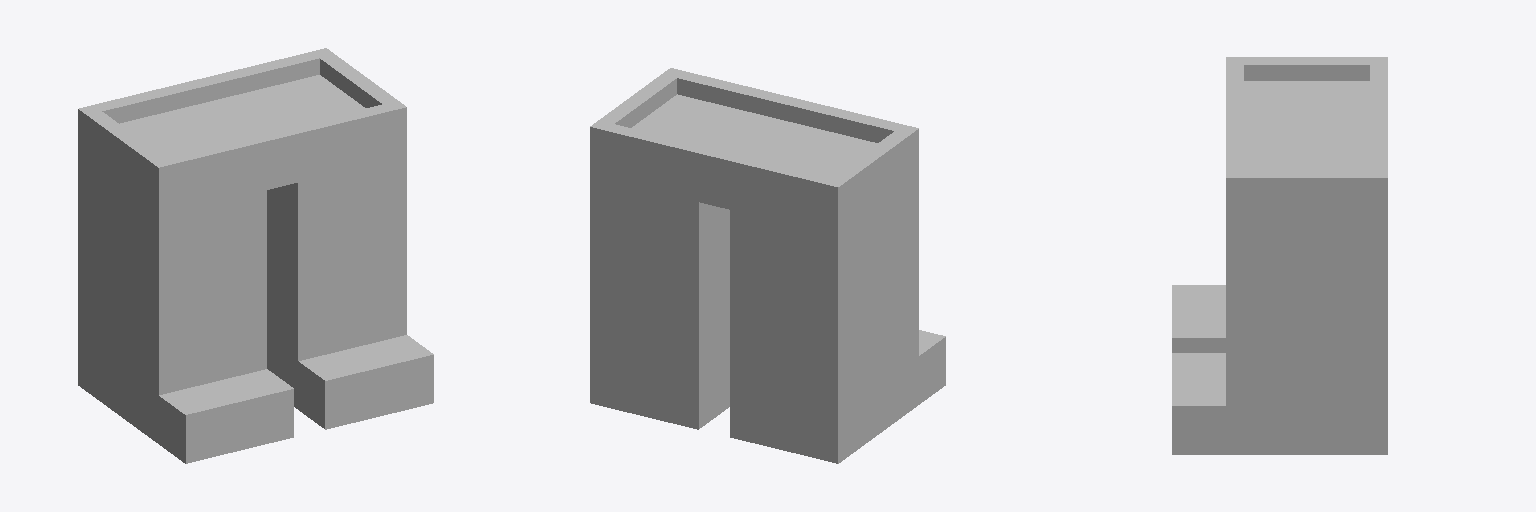
The model's file is GGJ zombie feet.obj.
The picture shows the model from 3 angles: view 1: azimuth 30°, elevation 25°; view 2: azimuth 150°, elevation 25°; view 3: azimuth 270°, elevation 25°; orthographic projection.
Visible parts, largest first — view 1: object 1; view 2: object 1; view 3: object 1.
Boxes of the visible parts, x1,y1,x2,y2 form: object 1: [78, 48, 433, 463]; object 1: [590, 68, 945, 463]; object 1: [1172, 57, 1387, 454].
Bounding box in the file's own units: 1.6 × 1.7 × 1.2.